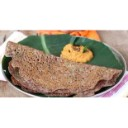dosa: (5, 40, 121, 98)
